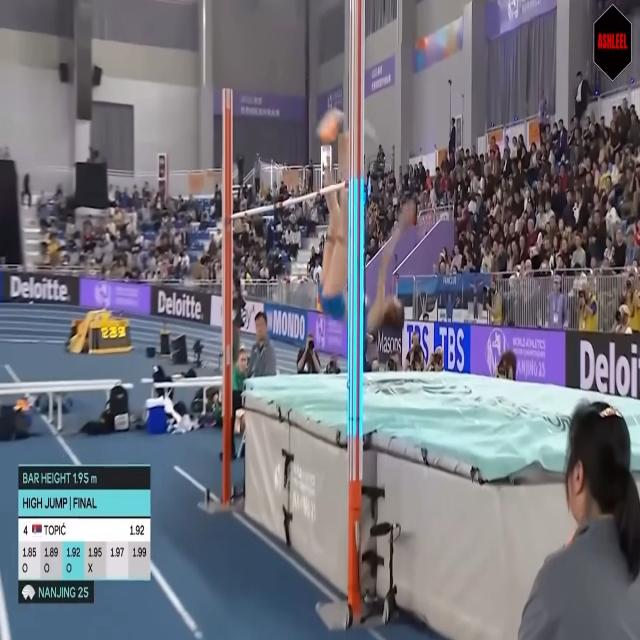land: (314, 104, 416, 336)
